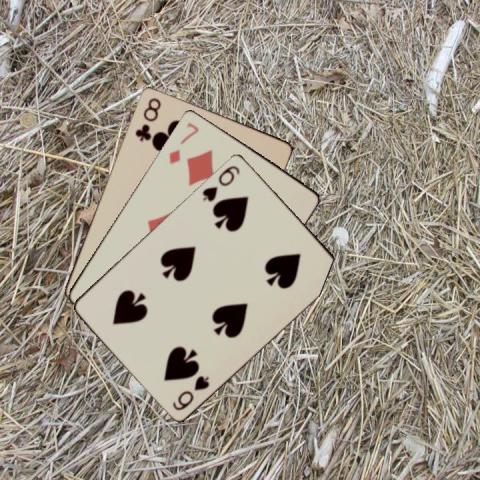6s: (199, 162, 241, 203), (169, 372, 211, 412)
7d: (165, 120, 201, 166)
8c: (132, 94, 163, 143)
